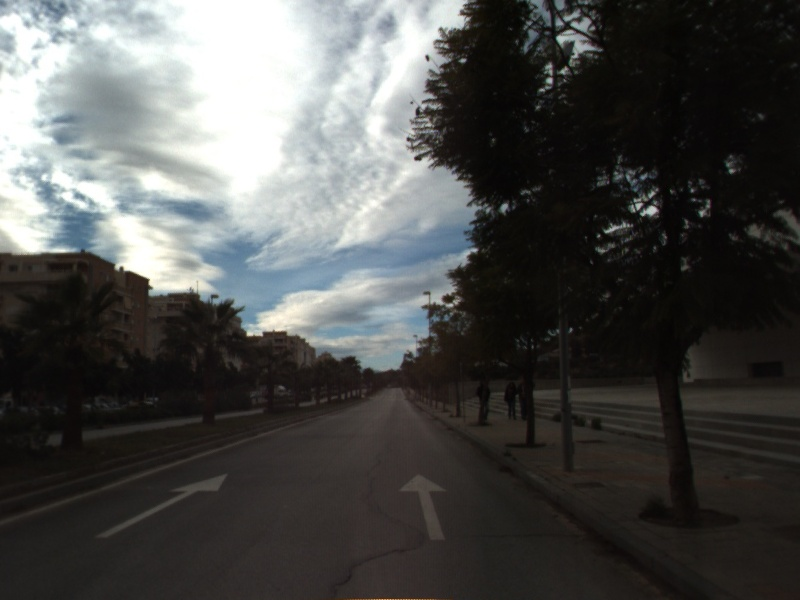STRAIGHT: (93, 471, 230, 540), (396, 472, 450, 542)
